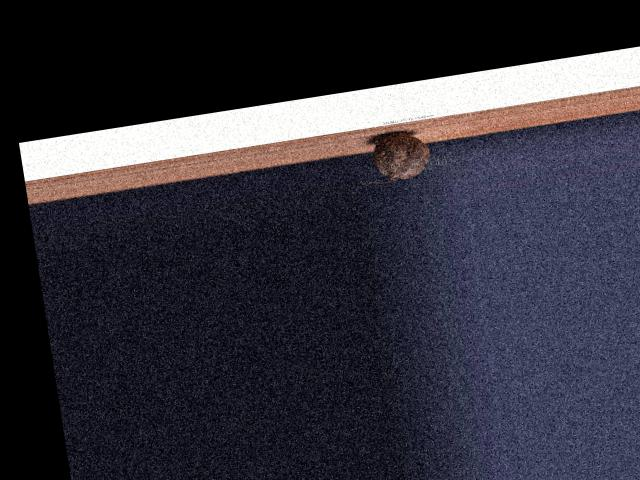beet: (353, 128, 432, 186)
